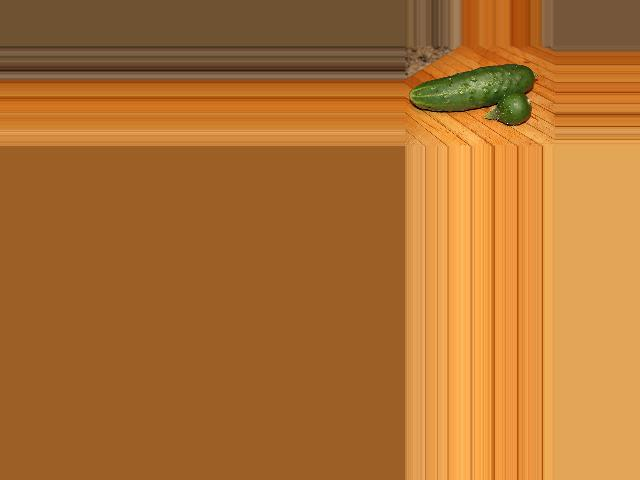cucumber: (409, 64, 535, 112)
